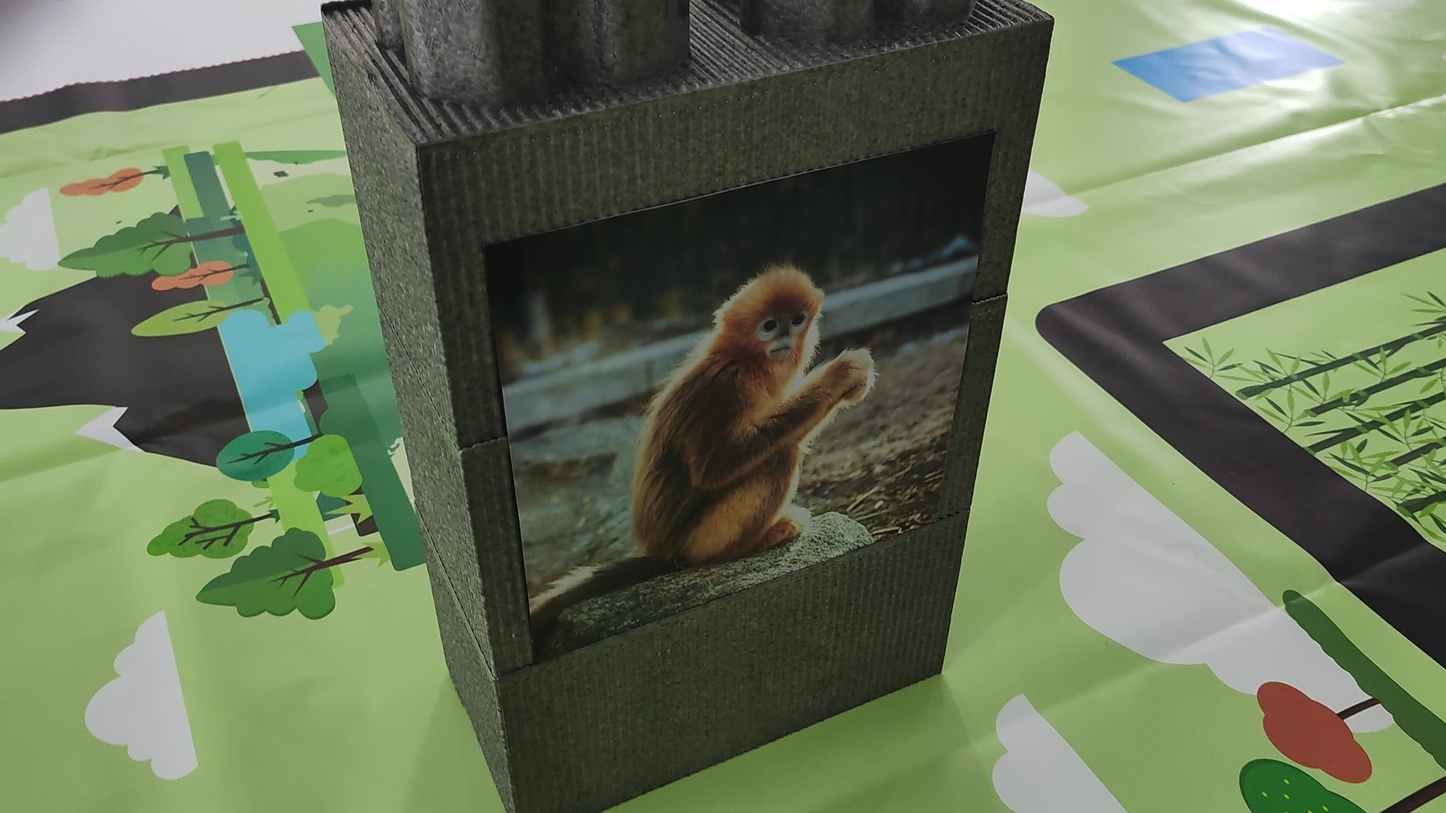monkey: (538, 248, 894, 644)
